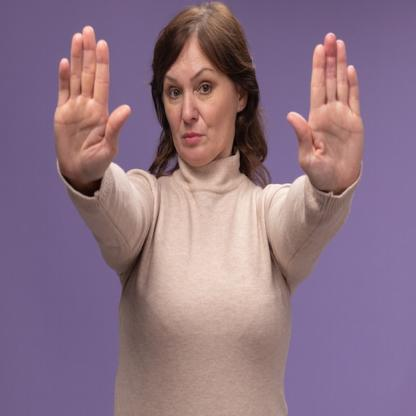stop: (284, 29, 367, 196), (52, 22, 132, 184)
